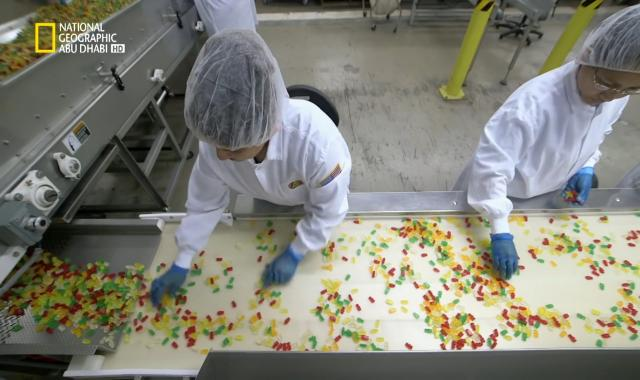hairnet: (190, 32, 288, 166), (577, 4, 640, 74)
